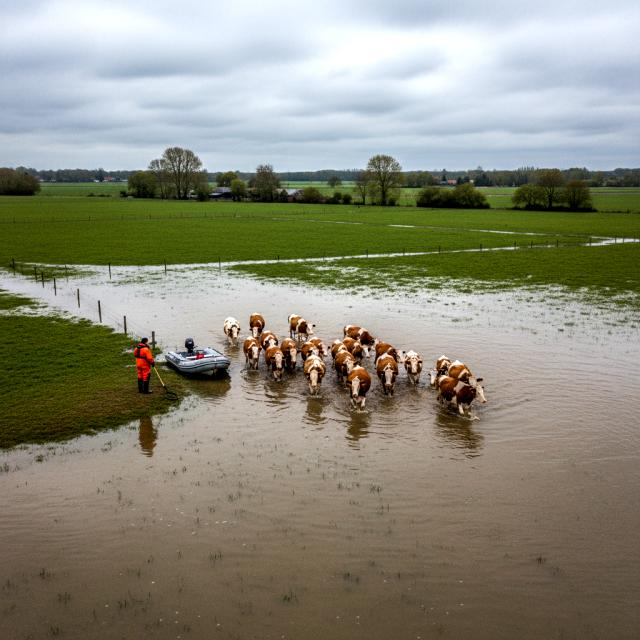cow: (433, 369, 490, 416), (342, 365, 373, 408), (374, 351, 402, 398), (448, 358, 484, 393), (282, 311, 318, 344), (372, 338, 408, 368), (332, 347, 362, 380), (220, 312, 244, 351), (341, 337, 372, 367), (277, 333, 302, 370), (264, 344, 287, 384), (340, 325, 378, 349), (402, 345, 424, 386), (302, 352, 322, 397), (242, 331, 262, 374), (308, 334, 331, 362), (246, 312, 265, 345), (299, 341, 323, 365), (327, 338, 350, 362), (433, 354, 454, 378), (261, 331, 280, 356)
rescuer: (125, 332, 167, 395)
